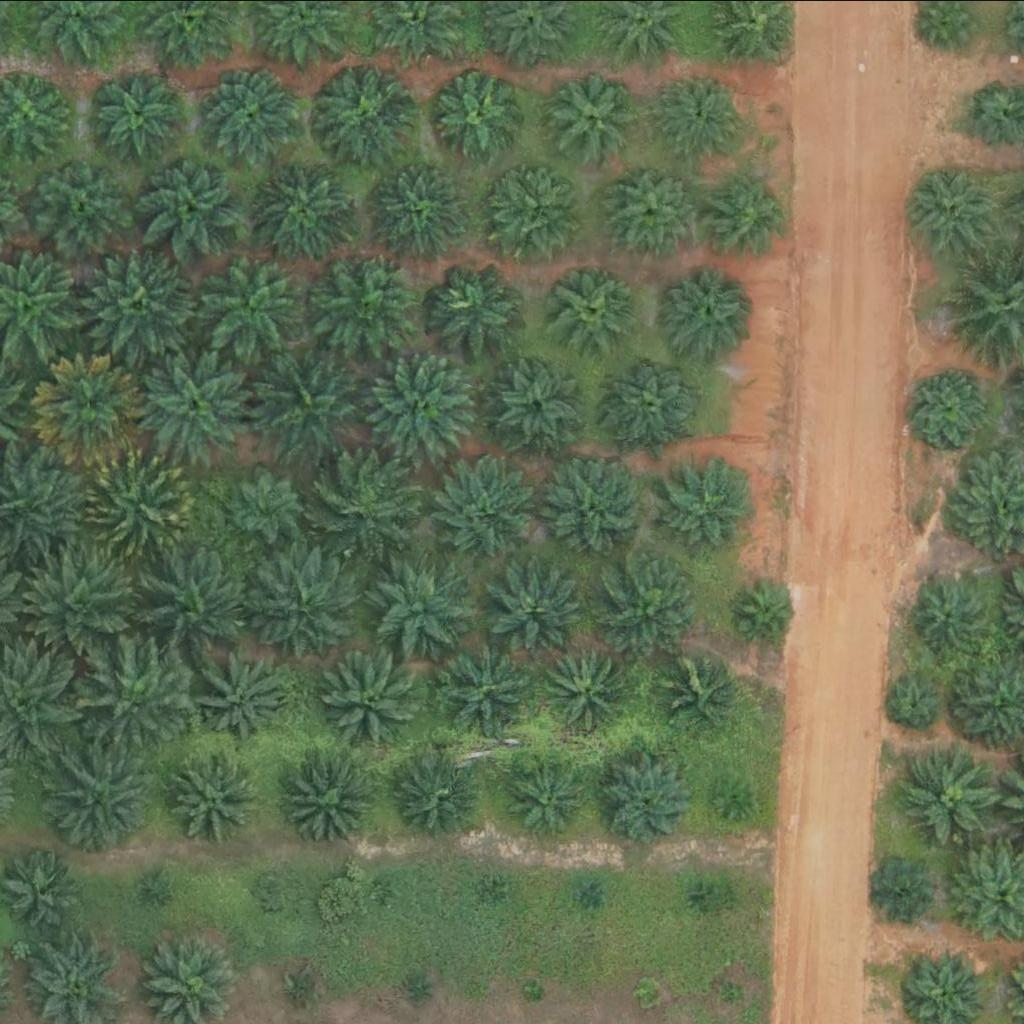Kelapa_Sawit: (373, 349, 487, 462), (42, 742, 156, 855), (201, 247, 314, 360), (34, 351, 147, 464), (83, 449, 196, 562), (135, 349, 248, 462), (253, 352, 366, 465), (140, 549, 254, 661), (243, 545, 357, 657), (76, 640, 190, 752), (83, 249, 196, 361), (27, 552, 140, 664), (591, 743, 704, 855), (201, 65, 302, 165), (314, 60, 415, 160), (32, 155, 133, 255), (141, 157, 242, 257), (257, 159, 358, 259), (367, 157, 468, 257), (311, 249, 412, 349), (372, 558, 473, 658), (321, 649, 422, 749), (433, 641, 534, 741), (600, 554, 701, 654), (545, 460, 646, 560), (655, 455, 756, 555), (900, 744, 1001, 844), (423, 260, 523, 360), (316, 453, 416, 553), (437, 460, 537, 560), (604, 349, 704, 449), (655, 257, 755, 357), (601, 155, 701, 255), (905, 160, 1005, 260), (502, 749, 591, 837), (438, 70, 526, 158), (496, 364, 584, 452), (394, 752, 482, 840), (546, 643, 634, 731), (551, 70, 639, 158), (657, 68, 745, 156), (98, 68, 186, 155), (497, 165, 585, 252), (498, 564, 586, 651), (199, 652, 287, 739), (166, 752, 254, 839), (288, 759, 376, 846), (547, 262, 635, 349), (704, 168, 792, 255), (227, 469, 303, 544), (910, 368, 986, 443), (664, 649, 739, 724), (913, 577, 988, 652), (737, 582, 800, 645), (875, 859, 938, 922), (892, 677, 942, 727), (258, 870, 296, 908), (713, 777, 751, 815), (143, 870, 168, 895), (373, 874, 398, 899), (489, 880, 514, 905), (293, 974, 318, 999), (406, 974, 431, 999), (524, 978, 549, 1003), (636, 982, 661, 1007), (720, 979, 745, 1004), (578, 879, 603, 904), (688, 886, 713, 911)
